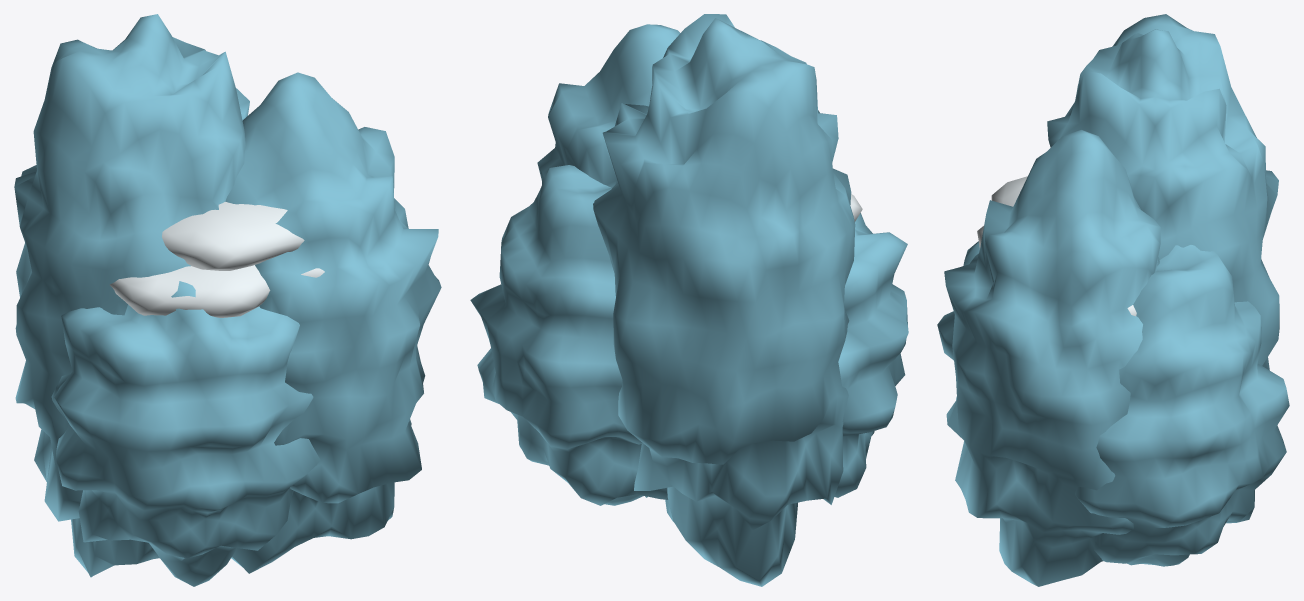
The model's file is GlacialCrag.fbx.
3 views of the same model, side by side, from view 1: azimuth 30°, elevation 25°; view 2: azimuth 150°, elevation 25°; view 3: azimuth 270°, elevation 25° (orthographic). The views are drawn at different scales.
Visible parts, largest first — view 1: Eroded formation.005_export, Eroded formation.006_export, Eroded formation.004_export, Snow mantle.001_export, Snow mantle_export; view 2: Eroded formation.006_export, Eroded formation.007_export, Eroded formation.004_export, Eroded formation.005_export; view 3: Eroded formation.005_export, Eroded formation.007_export, Eroded formation.006_export, Eroded formation.004_export, Snow mantle.001_export.
Part boxes in pixels (left/top/right/bottom): Eroded formation.005_export: left=225, top=72, right=441, bottom=573; Eroded formation.006_export: left=14, top=14, right=249, bottom=577; Eroded formation.004_export: left=51, top=281, right=320, bottom=586; Snow mantle.001_export: left=162, top=201, right=304, bottom=270; Snow mantle_export: left=109, top=265, right=270, bottom=317; Eroded formation.006_export: left=593, top=14, right=855, bottom=586; Eroded formation.007_export: left=470, top=165, right=668, bottom=505; Eroded formation.004_export: left=834, top=213, right=908, bottom=497; Eroded formation.005_export: left=537, top=24, right=680, bottom=497; Eroded formation.005_export: left=944, top=130, right=1160, bottom=586; Eroded formation.007_export: left=1075, top=245, right=1289, bottom=566; Eroded formation.006_export: left=1047, top=14, right=1279, bottom=370; Eroded formation.004_export: left=937, top=241, right=979, bottom=399; Snow mantle.001_export: left=991, top=176, right=1027, bottom=206.
Bounding box in the file's own units: 990 × 1401 × 845.
